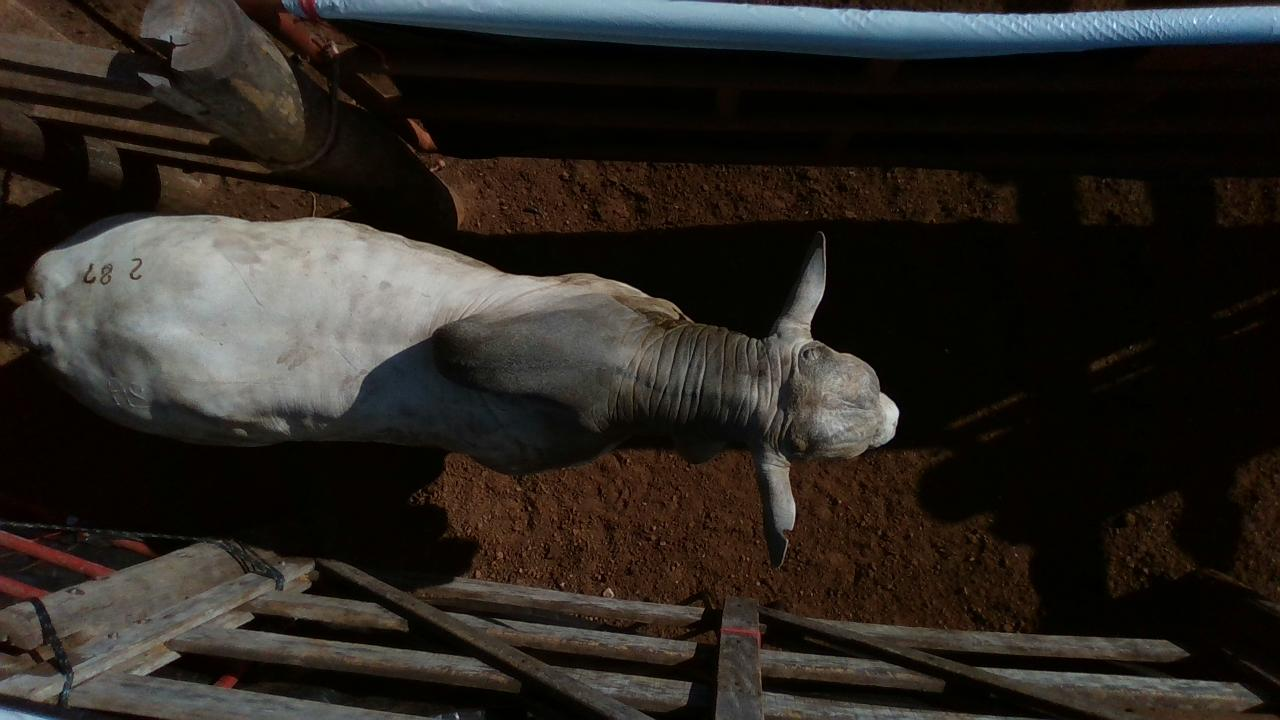cattle: (10, 209, 901, 569)
